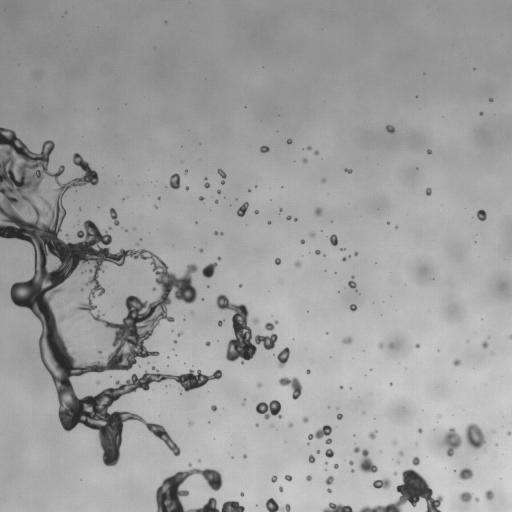droplet: (216, 294, 277, 363), (465, 423, 486, 449), (278, 377, 302, 399), (443, 428, 461, 456), (256, 400, 281, 419), (308, 425, 331, 444), (202, 262, 217, 278), (277, 347, 289, 367), (373, 477, 391, 489), (458, 468, 473, 480), (169, 173, 180, 189), (237, 202, 248, 217), (265, 320, 278, 330), (459, 492, 472, 502), (476, 209, 486, 221), (329, 234, 338, 246), (485, 490, 494, 500), (348, 277, 356, 288), (368, 430, 377, 439), (342, 336, 352, 344), (385, 125, 394, 133), (260, 145, 269, 153), (314, 207, 322, 216), (325, 448, 333, 457), (325, 476, 333, 485), (453, 358, 461, 366), (412, 456, 419, 465), (308, 455, 315, 463), (349, 304, 356, 311), (482, 340, 488, 348), (284, 475, 292, 481), (204, 181, 210, 188), (294, 261, 301, 267), (302, 416, 308, 423), (271, 475, 277, 482), (426, 187, 431, 195), (253, 318, 259, 324), (218, 320, 224, 326), (211, 405, 217, 411), (336, 413, 342, 419), (275, 258, 280, 265), (345, 168, 351, 173), (306, 475, 311, 481), (302, 158, 307, 163), (199, 196, 204, 201), (286, 215, 291, 220), (309, 232, 314, 237), (205, 341, 210, 346), (378, 343, 383, 348), (257, 382, 262, 387), (188, 421, 193, 426), (398, 451, 403, 456), (214, 231, 220, 235), (279, 486, 283, 492), (287, 139, 292, 143), (427, 149, 431, 154), (314, 150, 318, 155), (300, 239, 304, 244), (315, 250, 320, 254), (177, 332, 182, 336), (389, 343, 393, 348), (418, 428, 422, 433), (349, 460, 353, 465), (307, 146, 311, 150), (321, 178, 325, 182), (254, 210, 258, 214), (199, 248, 203, 252), (342, 257, 346, 261), (415, 344, 419, 348), (306, 369, 310, 373), (96, 380, 100, 384), (392, 441, 396, 445), (334, 464, 338, 468), (327, 488, 331, 492), (475, 497, 479, 501), (242, 399, 245, 404), (185, 186, 188, 190), (217, 189, 220, 193), (69, 288, 73, 291), (289, 423, 292, 427), (507, 432, 511, 435), (243, 454, 246, 458), (393, 471, 396, 475), (240, 492, 243, 496), (215, 200, 218, 203), (154, 205, 157, 208), (294, 218, 297, 221), (354, 252, 357, 255), (217, 257, 220, 260), (152, 287, 155, 290), (80, 288, 83, 291), (389, 382, 392, 385), (339, 385, 342, 388), (316, 450, 319, 453), (351, 469, 354, 472), (490, 98, 492, 101), (480, 112, 482, 115), (184, 171, 187, 173), (279, 209, 282, 211), (268, 221, 270, 224), (341, 248, 344, 250), (239, 284, 241, 287), (174, 340, 176, 343), (255, 424, 258, 426), (271, 424, 273, 427), (158, 197, 160, 199), (123, 198, 125, 200), (387, 222, 389, 224), (492, 430, 494, 432), (495, 444, 497, 446), (325, 462, 327, 464)
ligament: (0, 127, 220, 466), (155, 463, 244, 511), (357, 469, 443, 511), (354, 446, 377, 473), (265, 498, 290, 511), (322, 502, 355, 511), (109, 208, 119, 225), (217, 169, 226, 184), (510, 334, 511, 339)
